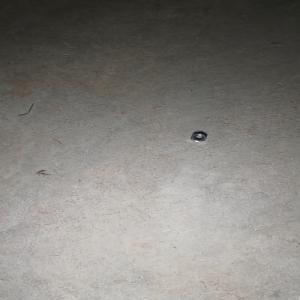Nut: (190, 132, 207, 142)
